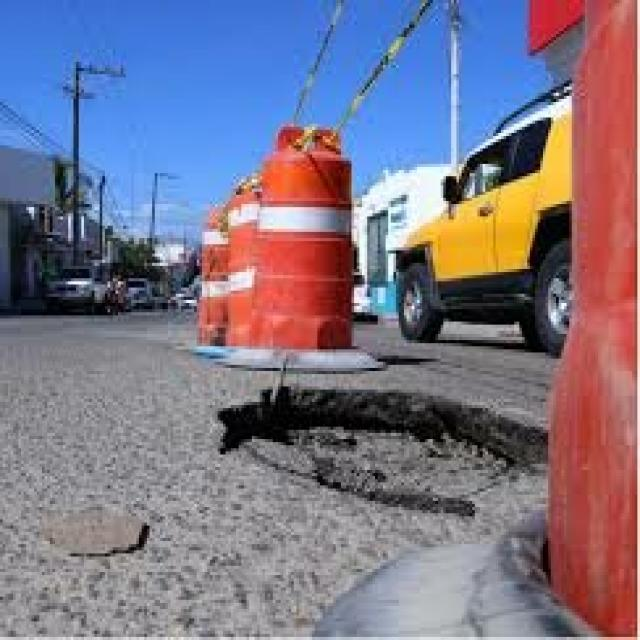Pothole: (213, 343, 569, 572)
